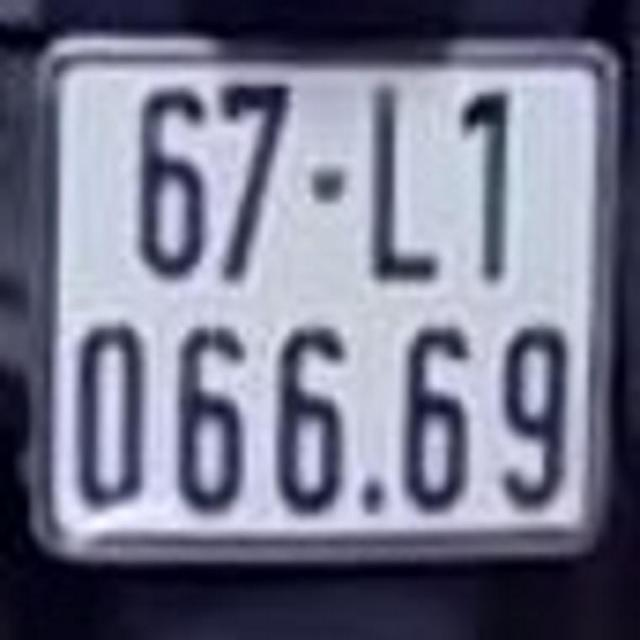0: (64, 304, 156, 510)
1: (456, 84, 540, 298)
6: (125, 64, 214, 298), (267, 300, 352, 518), (396, 304, 480, 518), (173, 308, 254, 516)
7: (213, 63, 300, 314)
9: (505, 300, 578, 516)
L: (355, 68, 448, 300)
